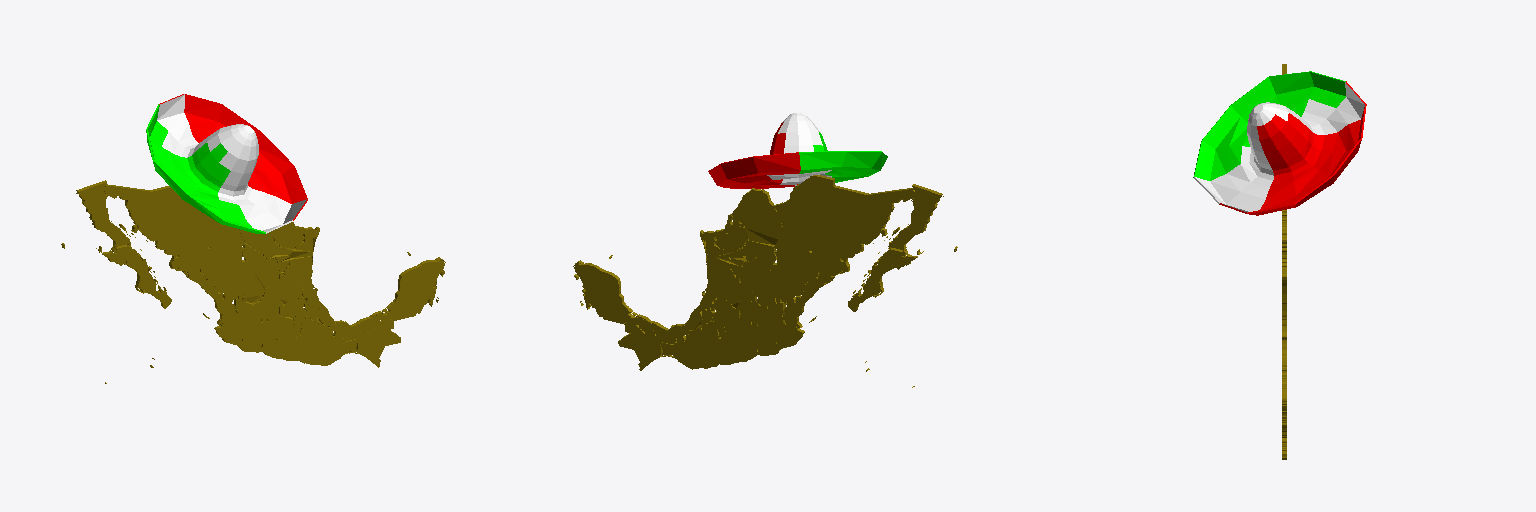
File: Republica.obj
The picture shows the model from 3 angles: view 1: azimuth 30°, elevation 25°; view 2: azimuth 150°, elevation 25°; view 3: azimuth 270°, elevation 25°; orthographic projection.
Visible parts, largest first — view 1: group_0_[number redacted], Mesh; view 2: group_0_[number redacted], Mesh; view 3: Mesh, group_0_[number redacted].
Part boxes in pixels (bbox=[...]): group_0_[number redacted]: bbox=[61, 180, 445, 383]; Mesh: bbox=[146, 94, 307, 233]; group_0_[number redacted]: bbox=[573, 175, 957, 387]; Mesh: bbox=[708, 113, 887, 188]; Mesh: bbox=[1193, 71, 1366, 215]; group_0_[number redacted]: bbox=[1282, 64, 1286, 459].
Bounding box in the file's own units: 211 × 151 × 82.81.